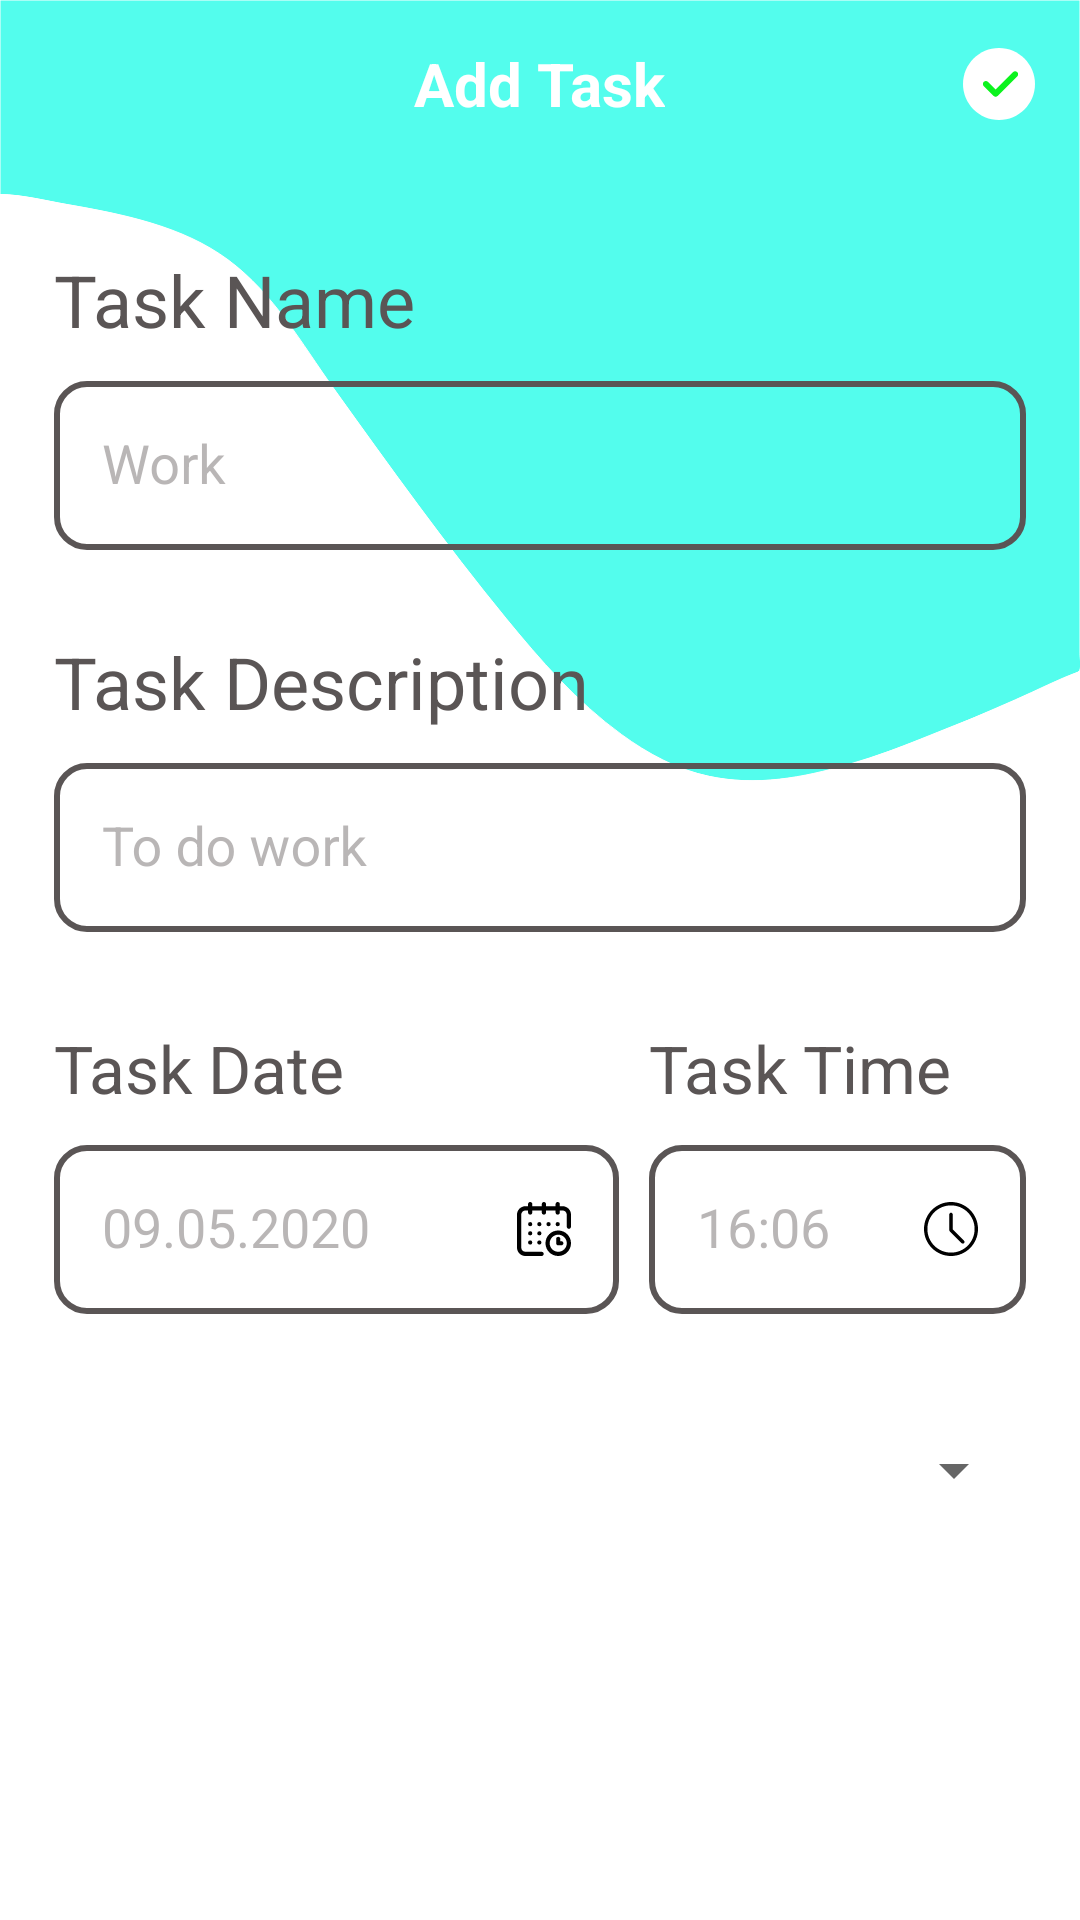

Named icons in this screenshot (1080*1920) and their bounding boxes, (x1, y1, x2, y2):
check: (963, 48, 1035, 120)
